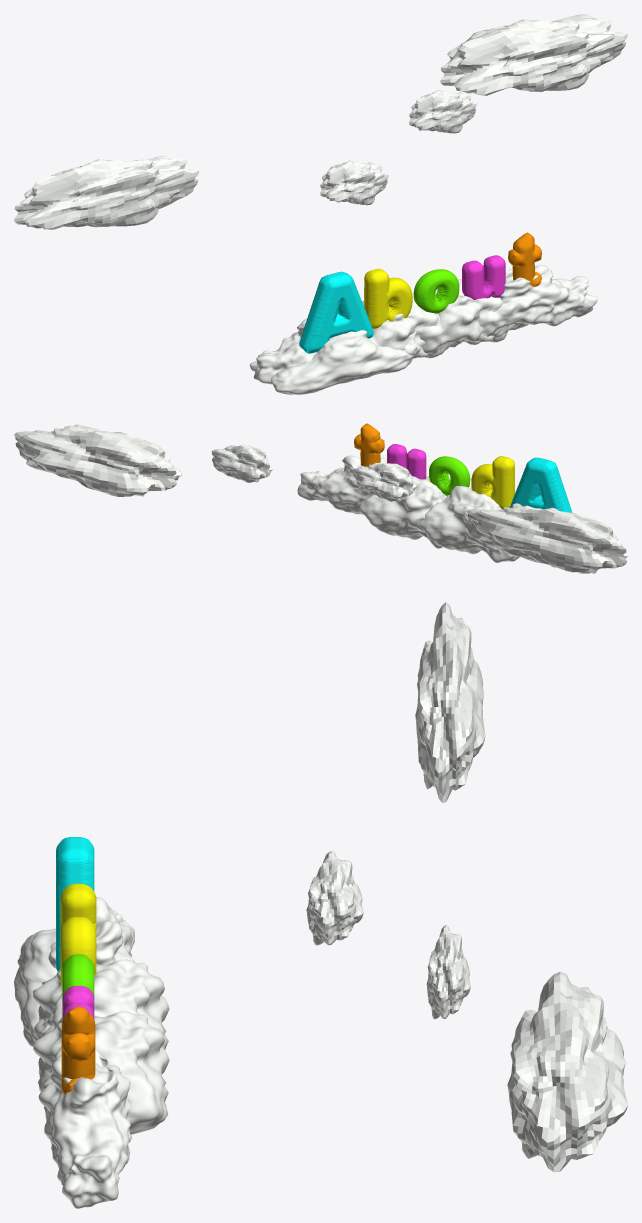
Rendered from cloud-transformed.glb.
The picture shows the model from 3 angles, top to bottom: view 1: azimuth 30°, elevation 25°; view 2: azimuth 150°, elevation 25°; view 3: azimuth 270°, elevation 25°; orthographic projection. The views are drawn at different scales.
Parts seen in each view (by area): view 1: Cube.003; view 2: Cube.003; view 3: Cube.003.
Part boxes in pixels (x1,y1,x2,y2): Cube.003: [14, 14, 627, 394]; Cube.003: [14, 423, 627, 573]; Cube.003: [14, 602, 627, 1208].
Bounding box in the file's own units: 109 × 27.61 × 55.1.
Materials: 1 (1 with a texture image).
